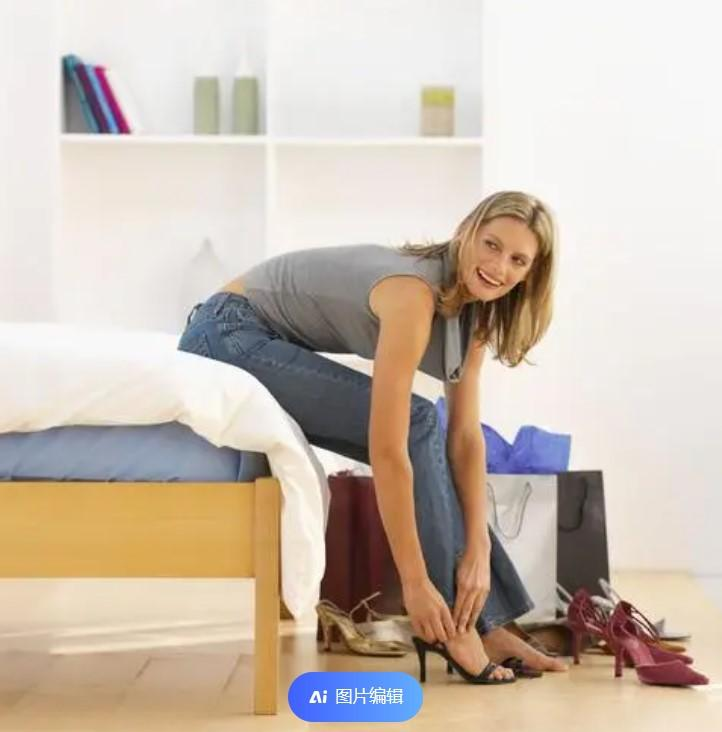bending: (192, 190, 570, 676)
